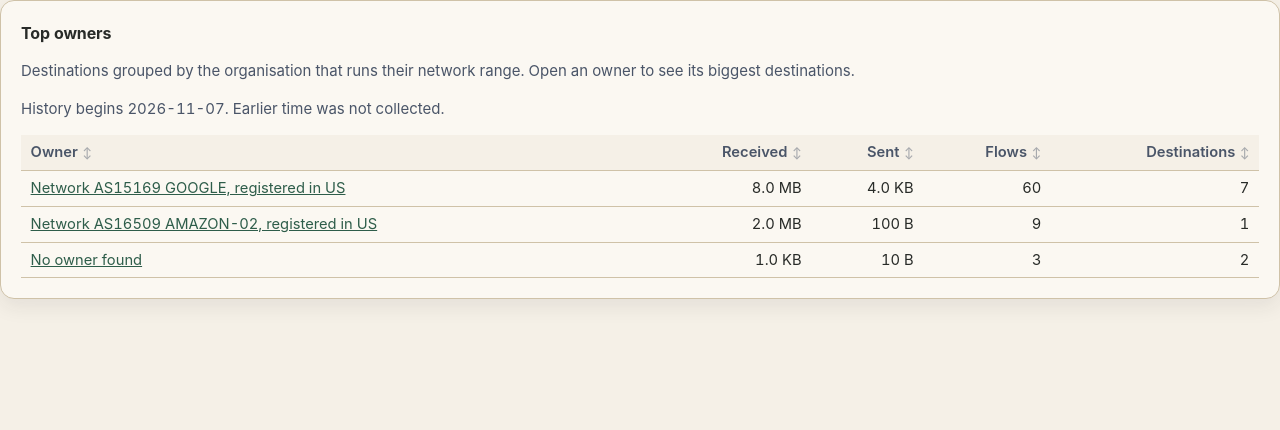
TopOwners › shows a row's biggest destinations when it is opened, each one opening that address, and says how many more there are
expect the button "142.251.40.238" is not shown: met
Click the button "Network AS15169 GOOGLE, registered in US".
click(188, 188)  # box 31,177 -> 346,199
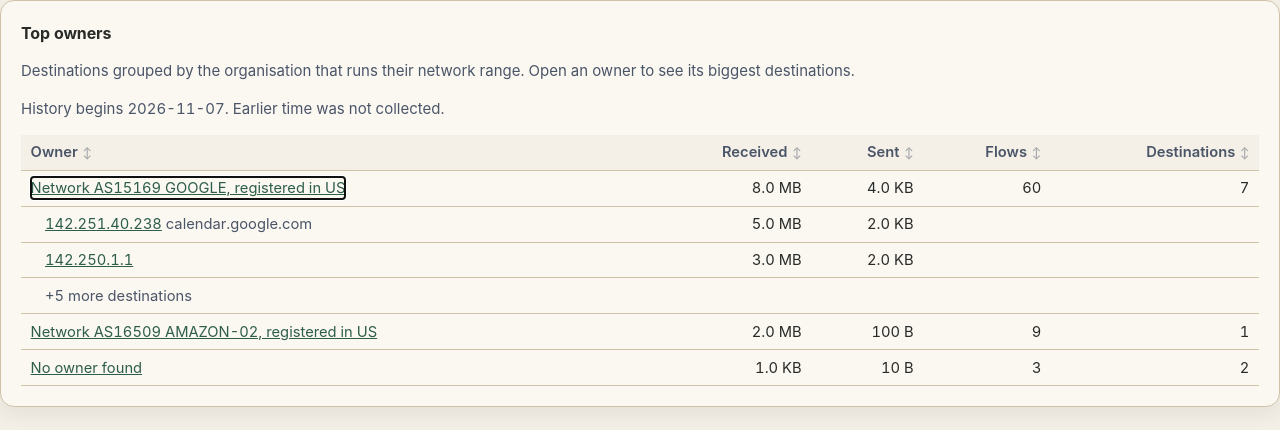
expect the button "Network AS15169 GOOGLE, registered in US" is expanded: met, box 31,177 -> 346,199
expect the text "calendar.google.com" is shown: met, box 166,215 -> 312,233
expect the text "+5 more destinations" is shown: met, box 21,278 -> 1259,314
Click the button "142.251.40.238".
click(103, 224)  # box 45,213 -> 162,235
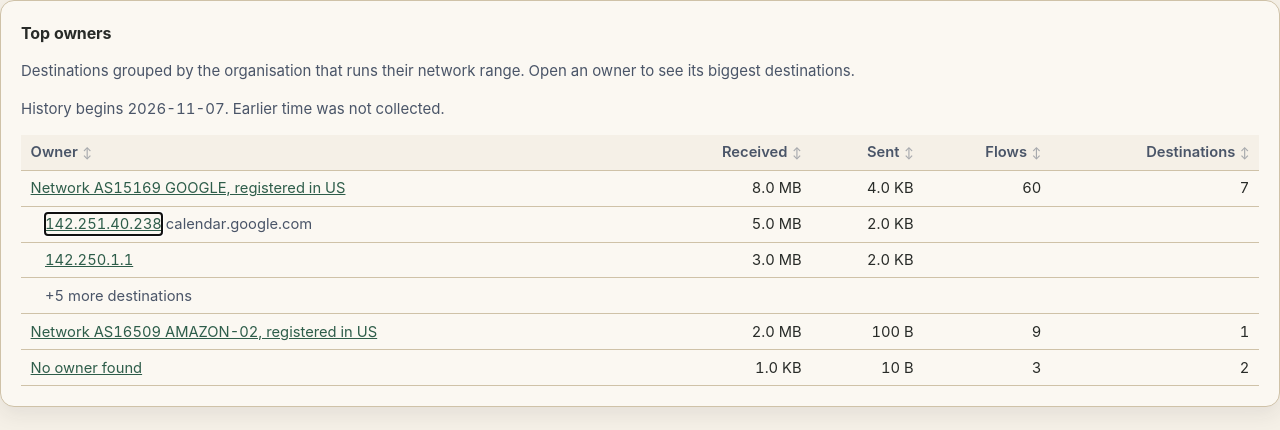
Click the button "Network AS15169 GOOGLE, registered in US".
click(188, 188)  # box 31,177 -> 346,199
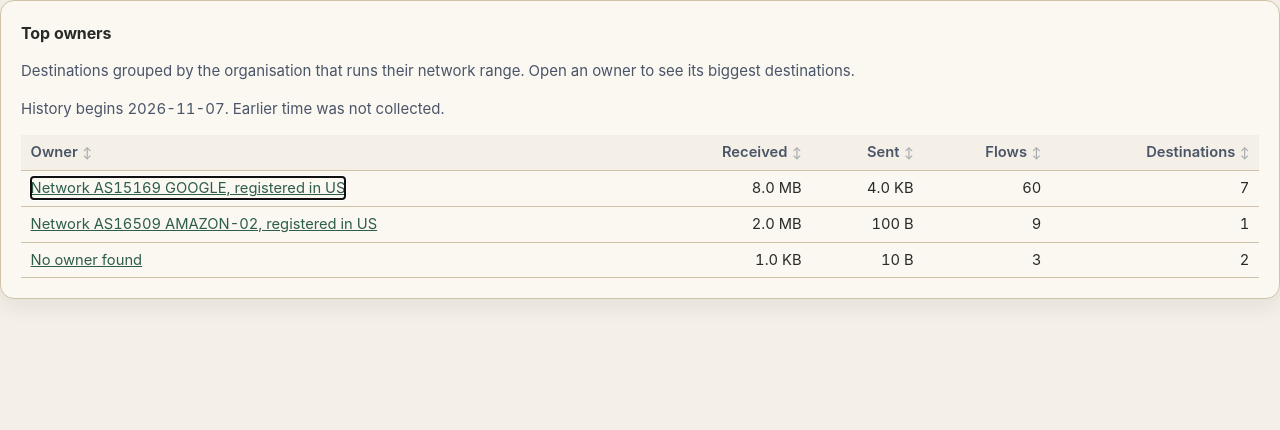
expect the button "142.251.40.238" is gone: met
